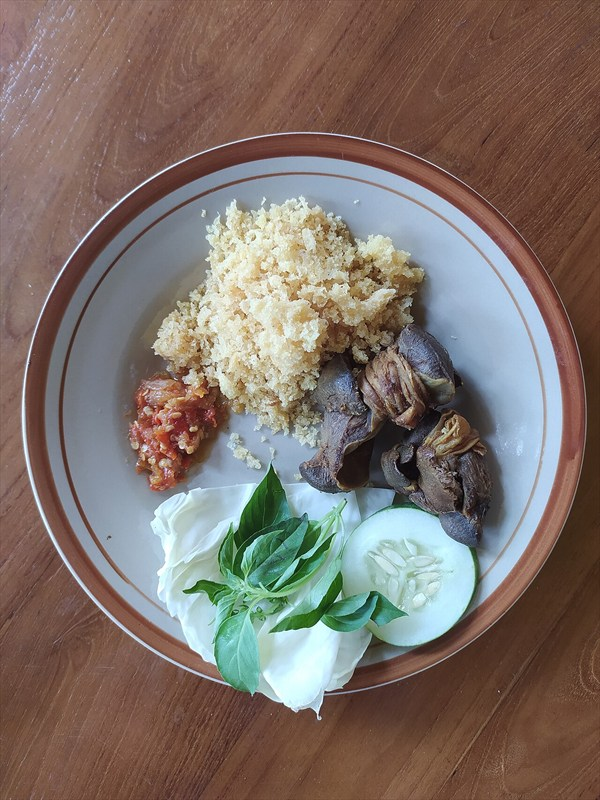Ayam Goreng: (129, 179, 554, 695)
